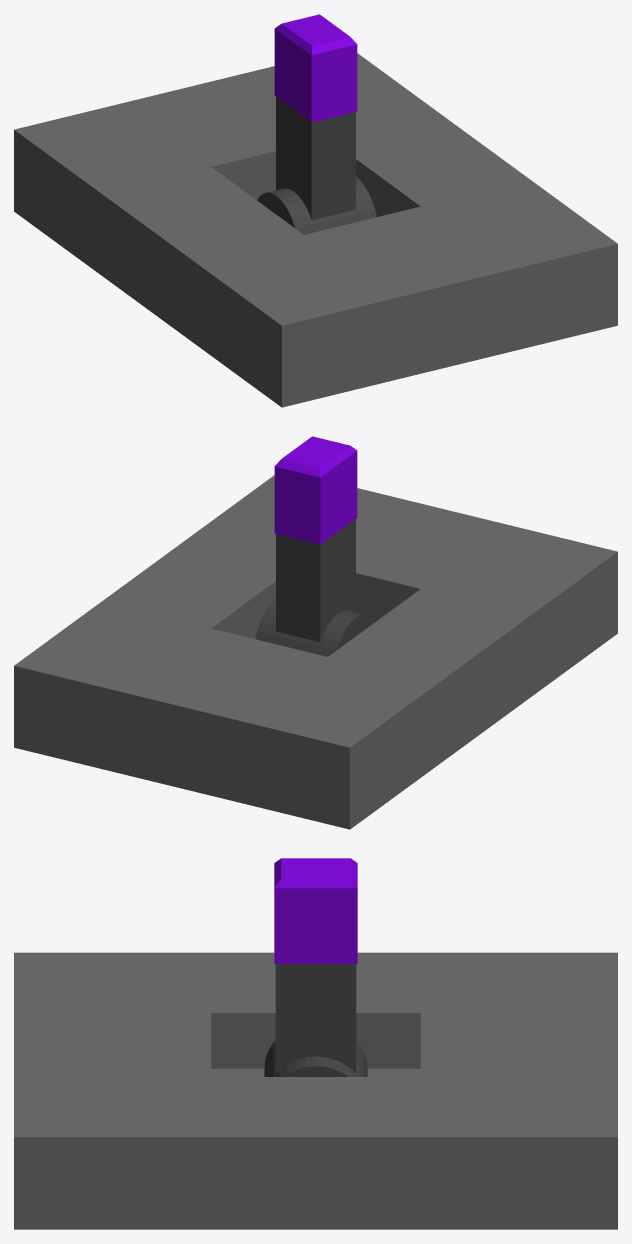
The model's file is PurpleSwitch.glb.
3 renders of one model, top to bottom at view 1: azimuth 30°, elevation 25°; view 2: azimuth 150°, elevation 25°; view 3: azimuth 270°, elevation 25°, orthographic. The views are drawn at different scales.
Parts seen in each view (by area): view 1: Base, Switch, Cube; view 2: Base, Switch, Cube; view 3: Base, Switch, Cube.
Part boxes in pixels (x1,y1,x2,y2): Base: [14, 53, 617, 407]; Switch: [257, 97, 376, 234]; Cube: [274, 14, 357, 122]; Base: [14, 475, 617, 829]; Switch: [255, 519, 374, 656]; Cube: [274, 436, 357, 544]; Base: [14, 952, 617, 1229]; Switch: [264, 964, 367, 1076]; Cube: [274, 858, 357, 963].
Size of the model in its own units: 0.0463 by 0.0315 by 0.0639.
